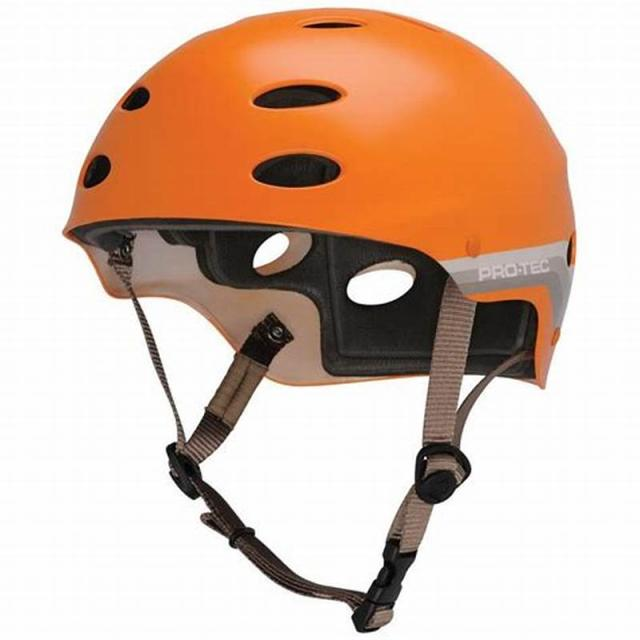illegal_helmet: (55, 3, 585, 637)
